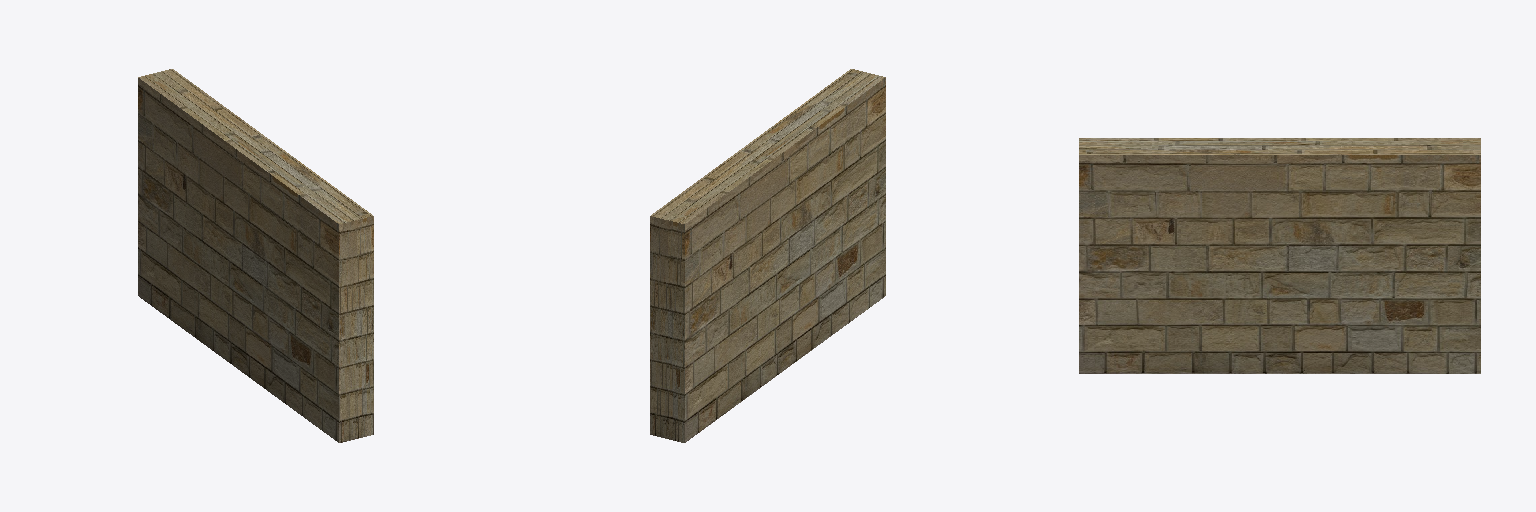
3 renders of one model, left to right at view 1: azimuth 30°, elevation 25°; view 2: azimuth 150°, elevation 25°; view 3: azimuth 270°, elevation 25°, orthographic.
Parts seen in each view (by area): view 1: Cube_Cube.001; view 2: Cube_Cube.001; view 3: Cube_Cube.001.
Part boxes in pixels (bbox=[...]): Cube_Cube.001: bbox=[138, 69, 373, 442]; Cube_Cube.001: bbox=[650, 69, 885, 442]; Cube_Cube.001: bbox=[1079, 138, 1480, 373].
Size of the model in its own units: 0.5 by 3 by 5.
1 materials, 1 textured.